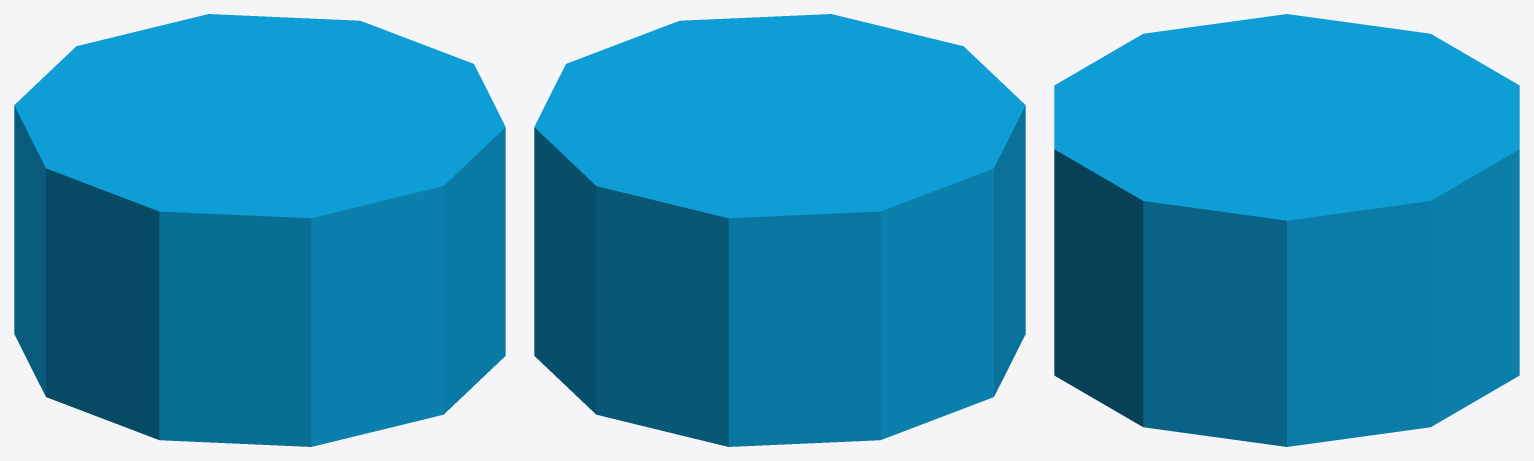
Rendered from smallCushion1.fbx.
The picture shows the model from 3 angles, left to right: view 1: azimuth 30°, elevation 25°; view 2: azimuth 150°, elevation 25°; view 3: azimuth 270°, elevation 25°; orthographic projection.
Visible parts, largest first — view 1: SmallCushion1; view 2: SmallCushion1; view 3: SmallCushion1.
Part boxes in pixels (<box>): SmallCushion1: <box>14,14,505,446</box>; SmallCushion1: <box>534,14,1025,446</box>; SmallCushion1: <box>1054,14,1519,446</box>.
Size of the model in its own units: 51.1 by 26.09 by 48.6.
1 material, 1 textured.
